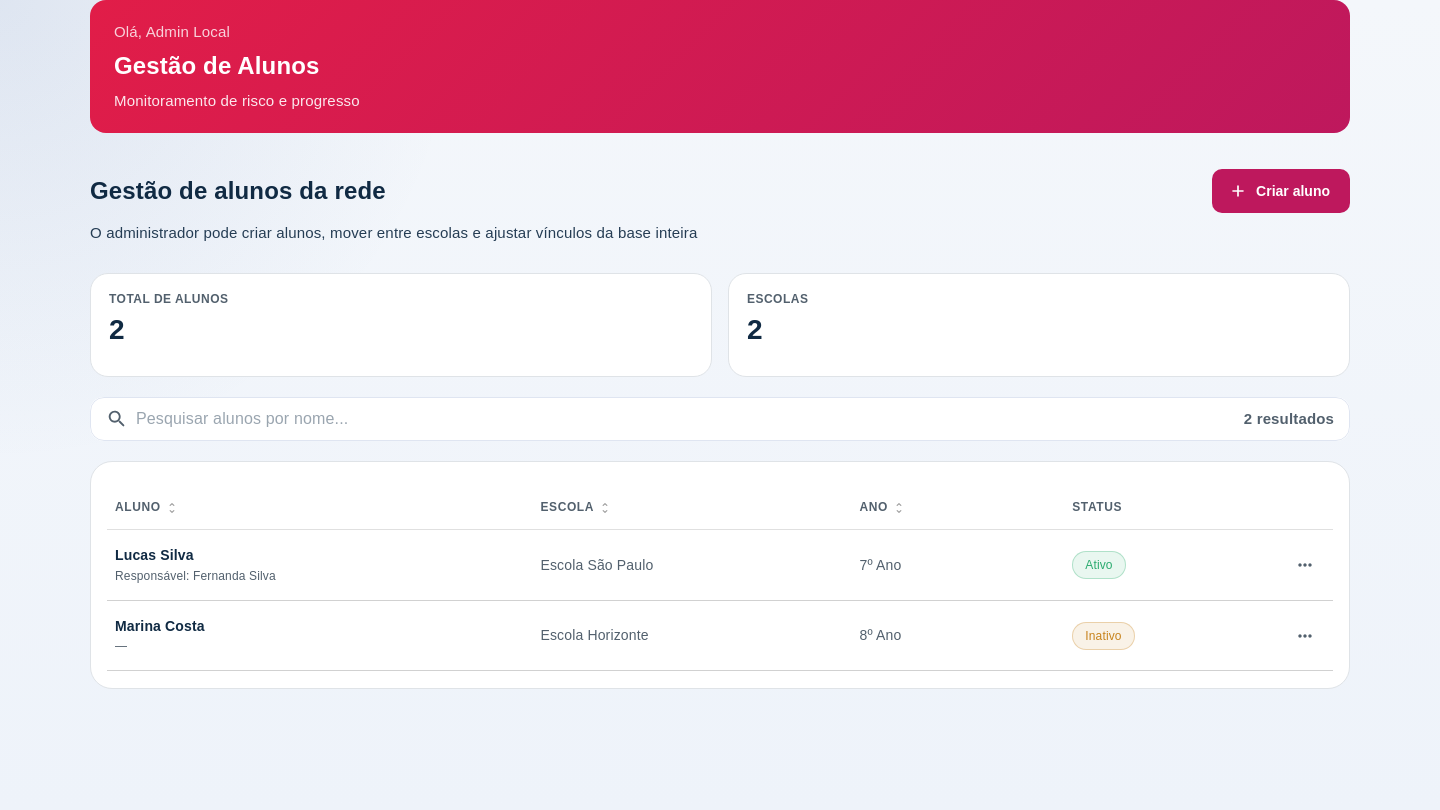
Test: StudentsPage opens action menu
What coordinates should you click on to do the following:
click the button with test id "student-menu-1"
I would click on:
 (1305, 565)
Its box is [1290,550,1320,580].
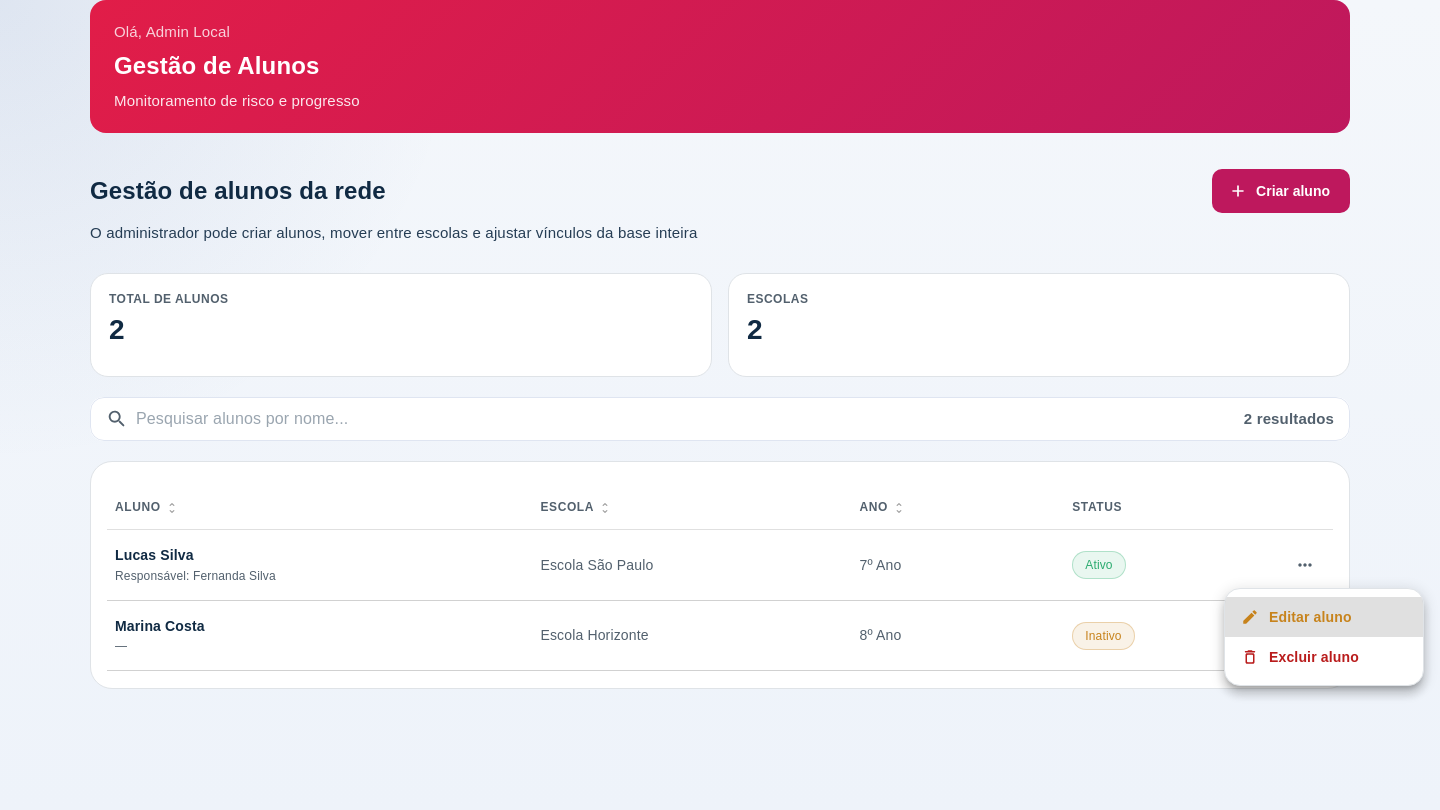
Result: the text "Editar aluno" is shown at [1269,606,1352,628]
Result: the text "Excluir aluno" is shown at [1269,646,1359,668]
